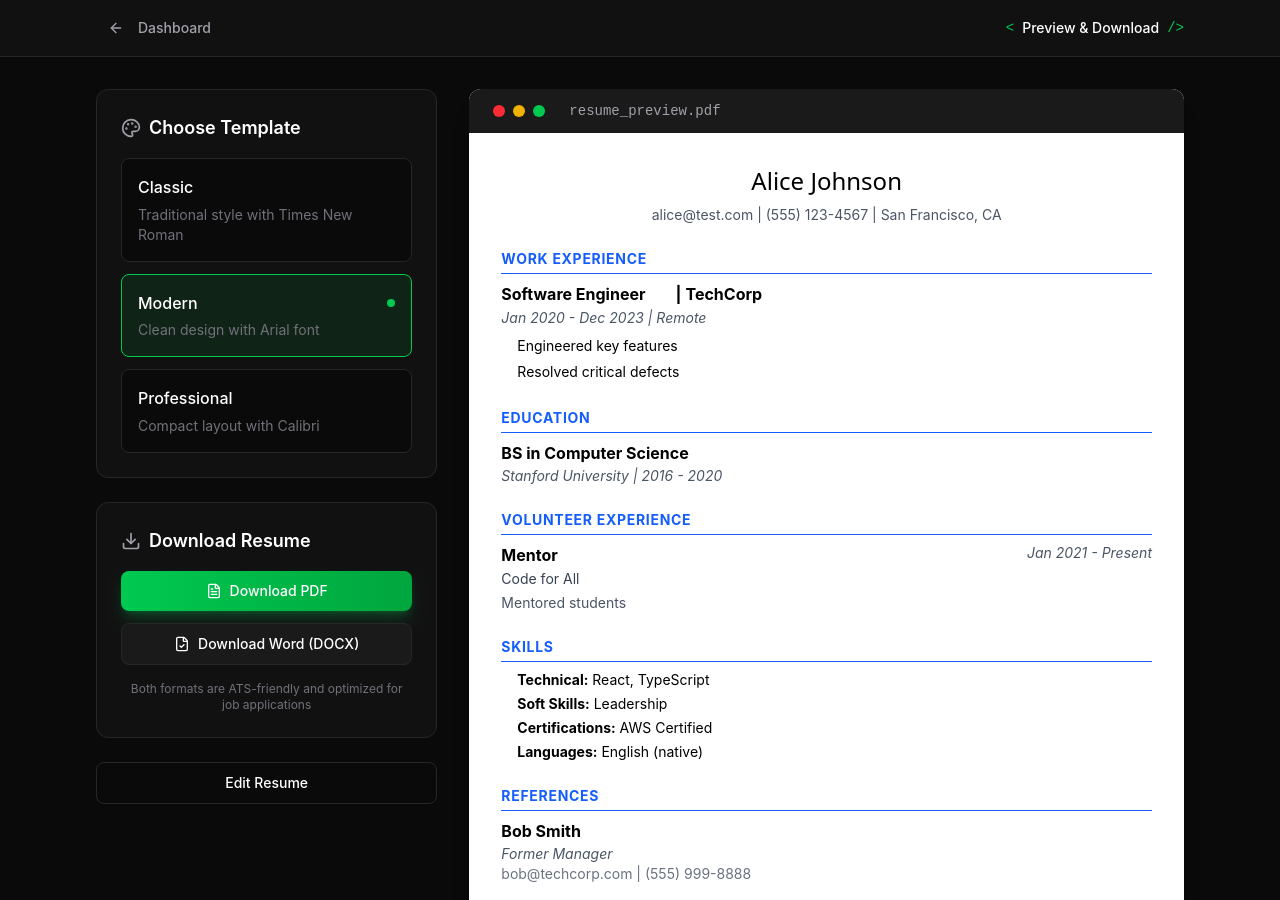
Preview Inline Editing › should allow editing a work experience bullet
What coordinates should you click on to do the following:
click the text "Engineered key features"
I would click on:
 (598, 346)
Its box is [517, 336, 678, 356].
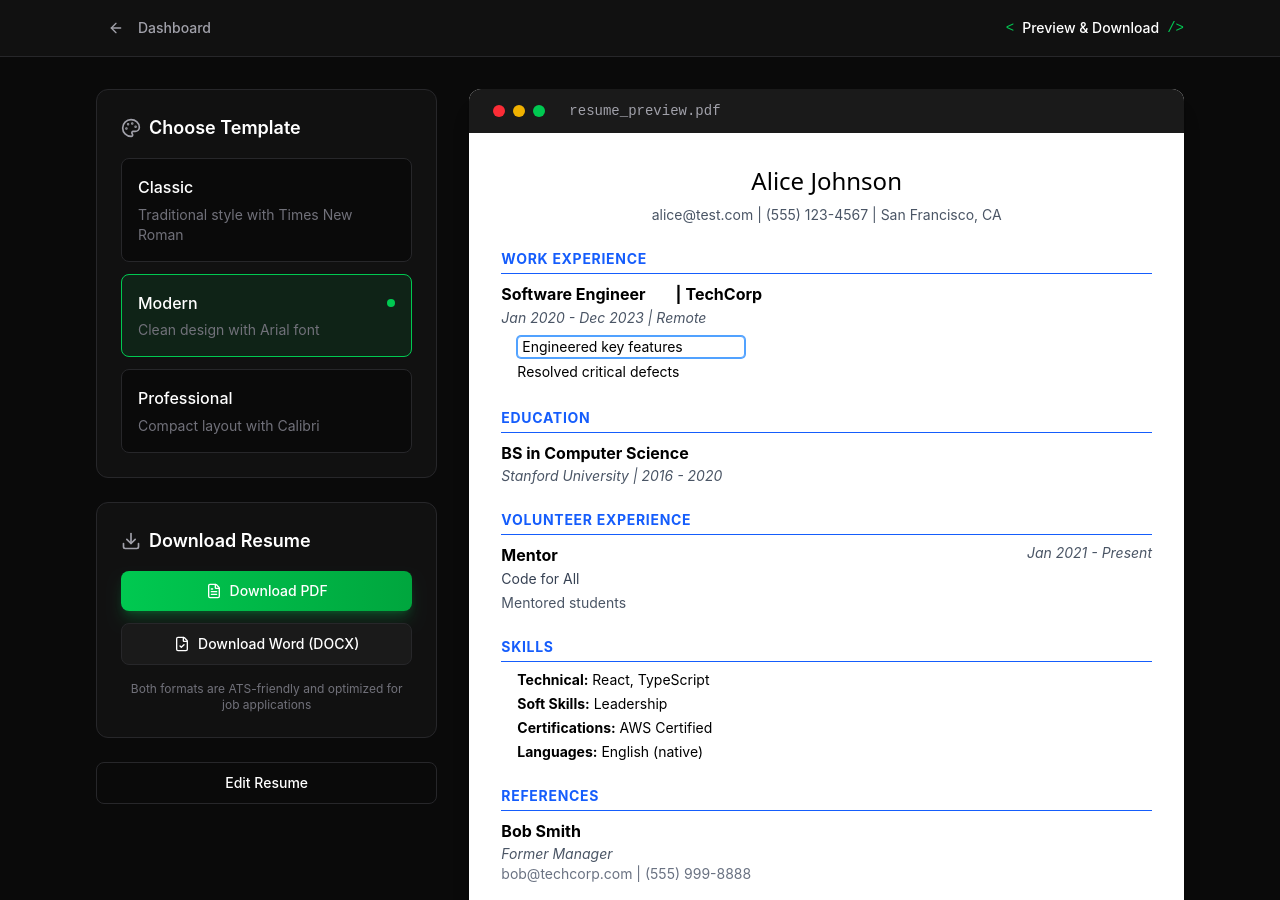
Check: the field holds "Engineered key features", box [517, 336, 745, 358]
